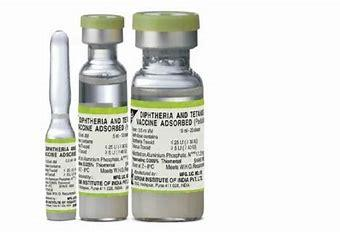Syringe: (130, 11, 212, 223), (77, 0, 132, 231), (41, 24, 77, 226)
